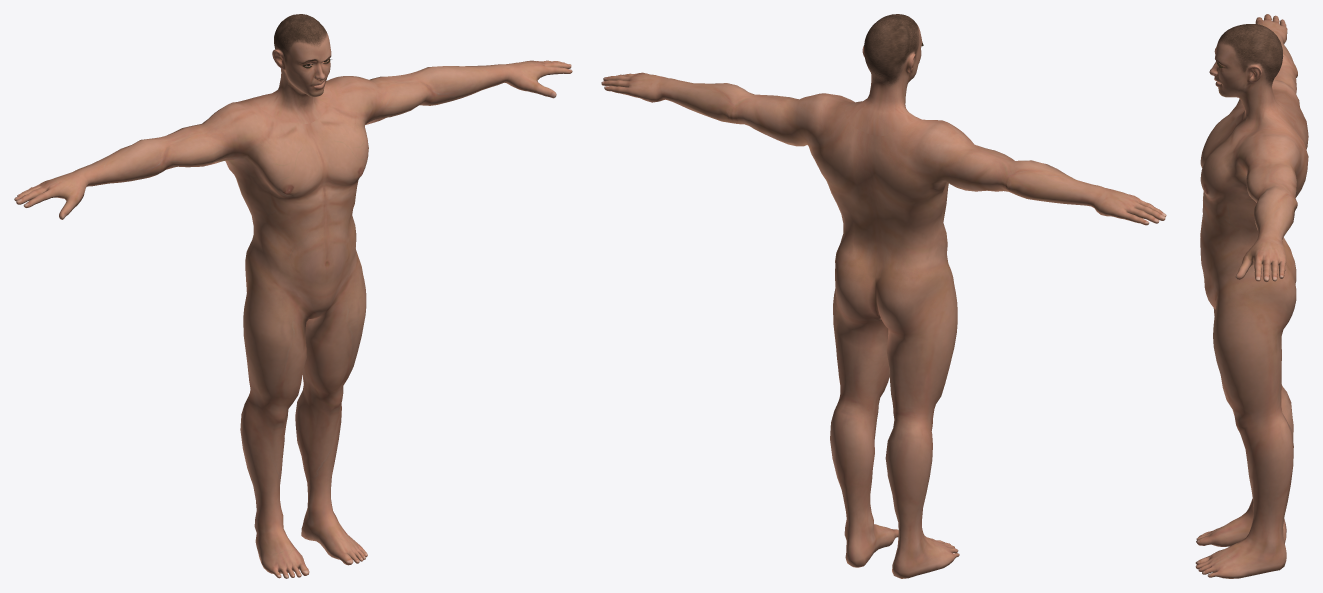
Rendered from face_confused.obj.
The picture shows the model from 3 angles, left to right: view 1: azimuth 30°, elevation 25°; view 2: azimuth 150°, elevation 25°; view 3: azimuth 270°, elevation 25°; orthographic projection. The views are drawn at different scales.
Visible parts, largest first — view 1: BodyParts; view 2: BodyParts; view 3: BodyParts.
Boxes of the visible parts, x1,y1,x2,y2 form: BodyParts: [14, 14, 572, 578]; BodyParts: [601, 14, 1166, 578]; BodyParts: [1195, 14, 1308, 578].
Bounding box in the file's own units: 194 × 179 × 34.57.
